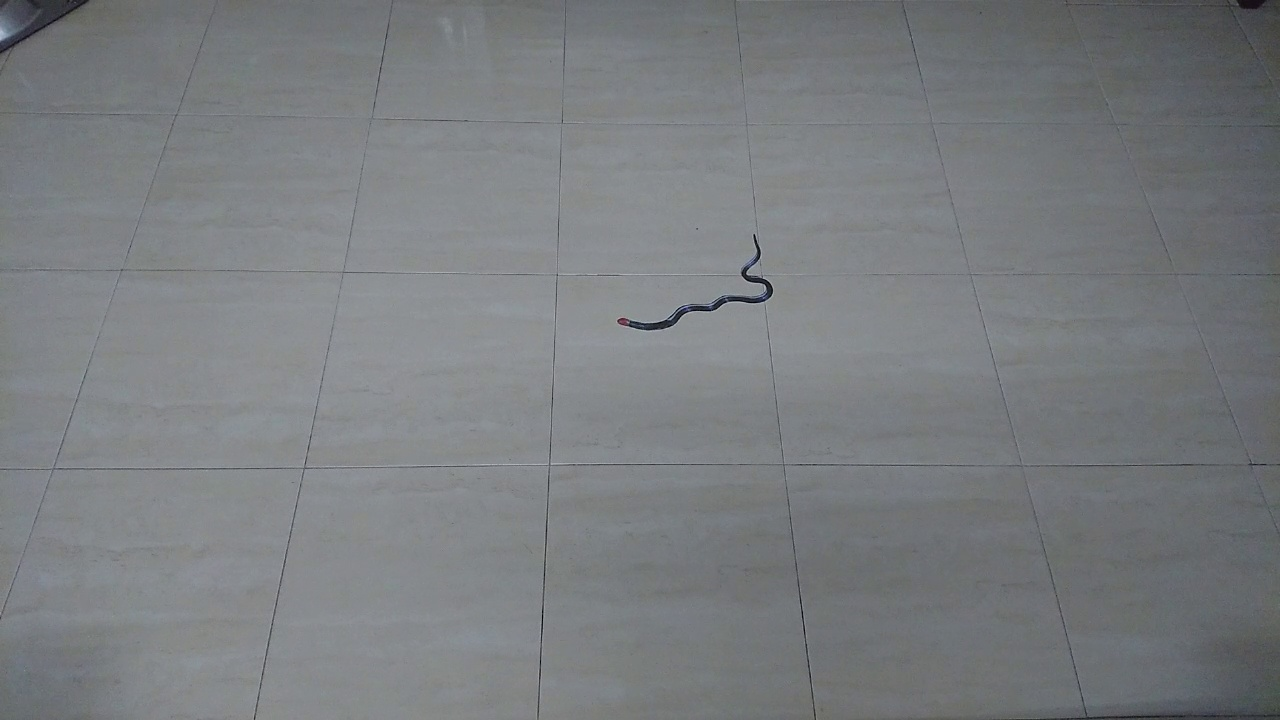snake: (603, 219, 779, 339)
